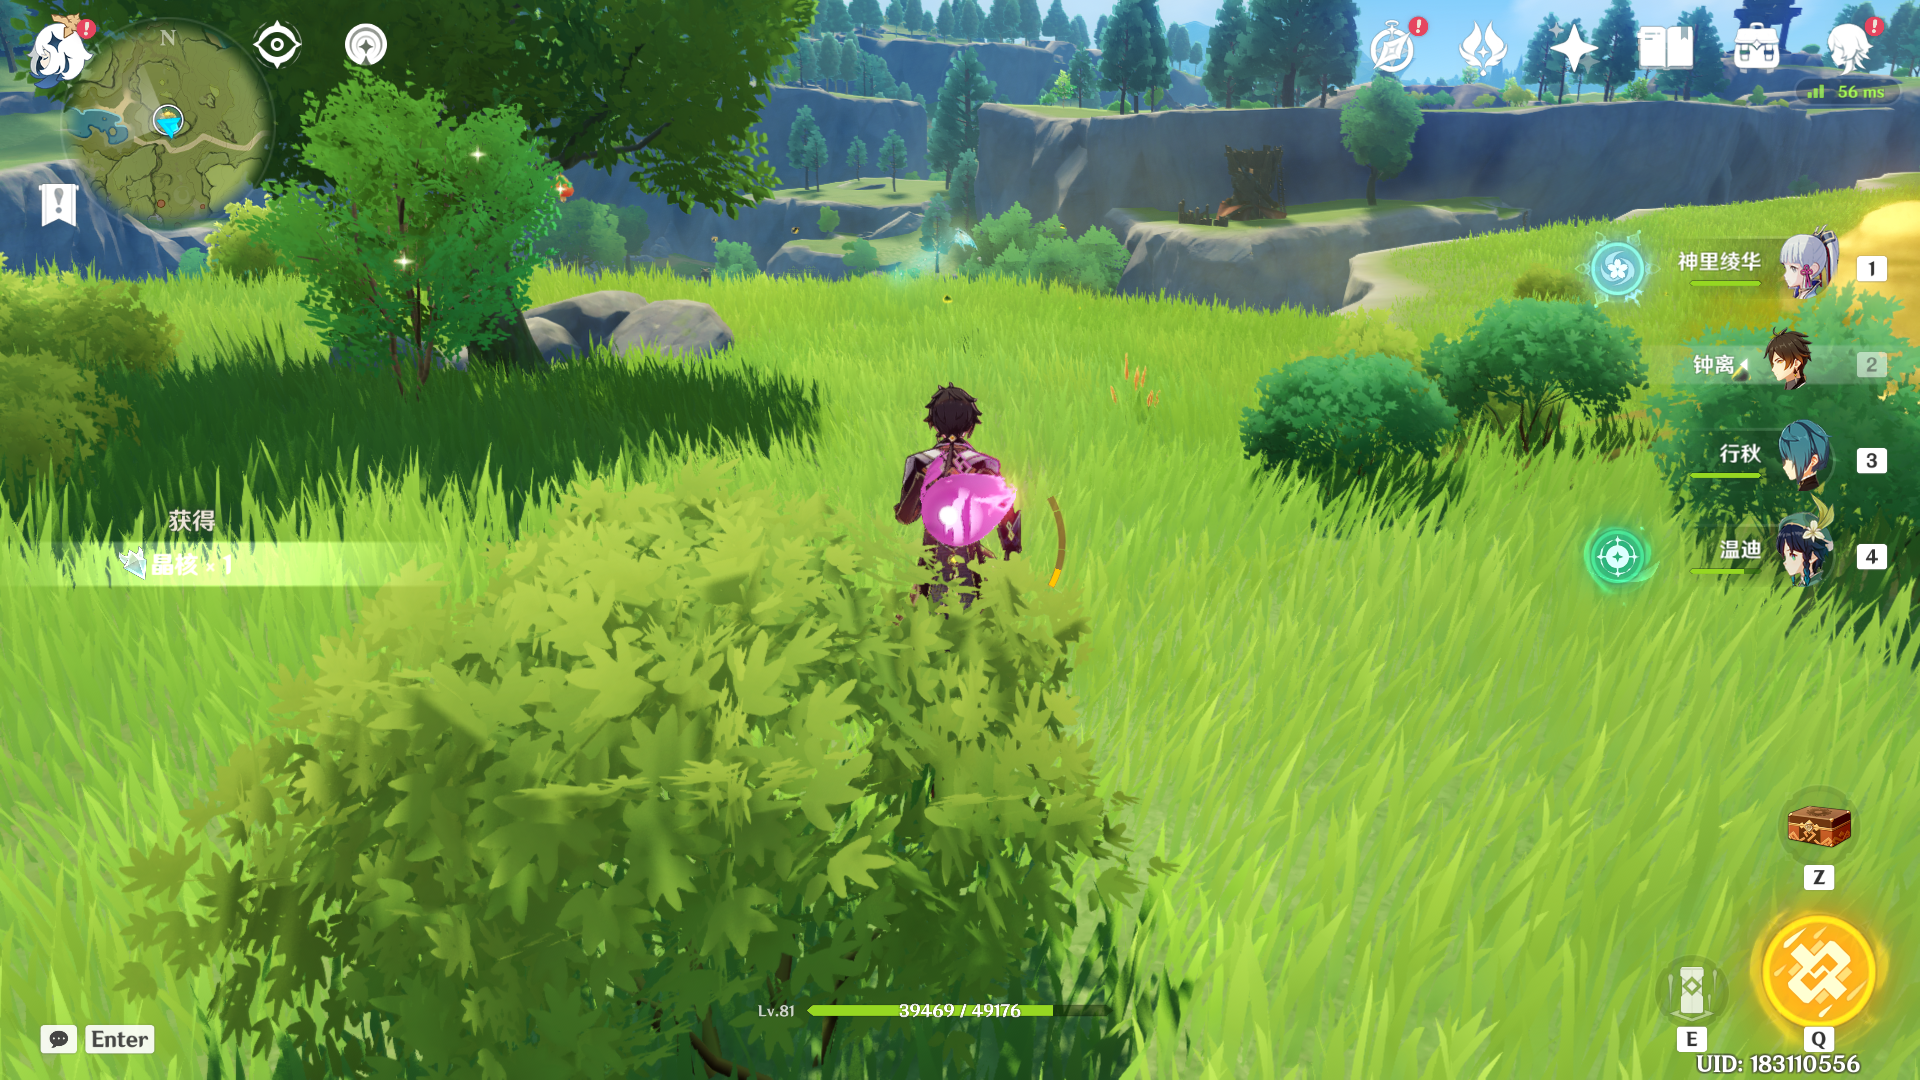character: (861, 367, 1075, 680)
